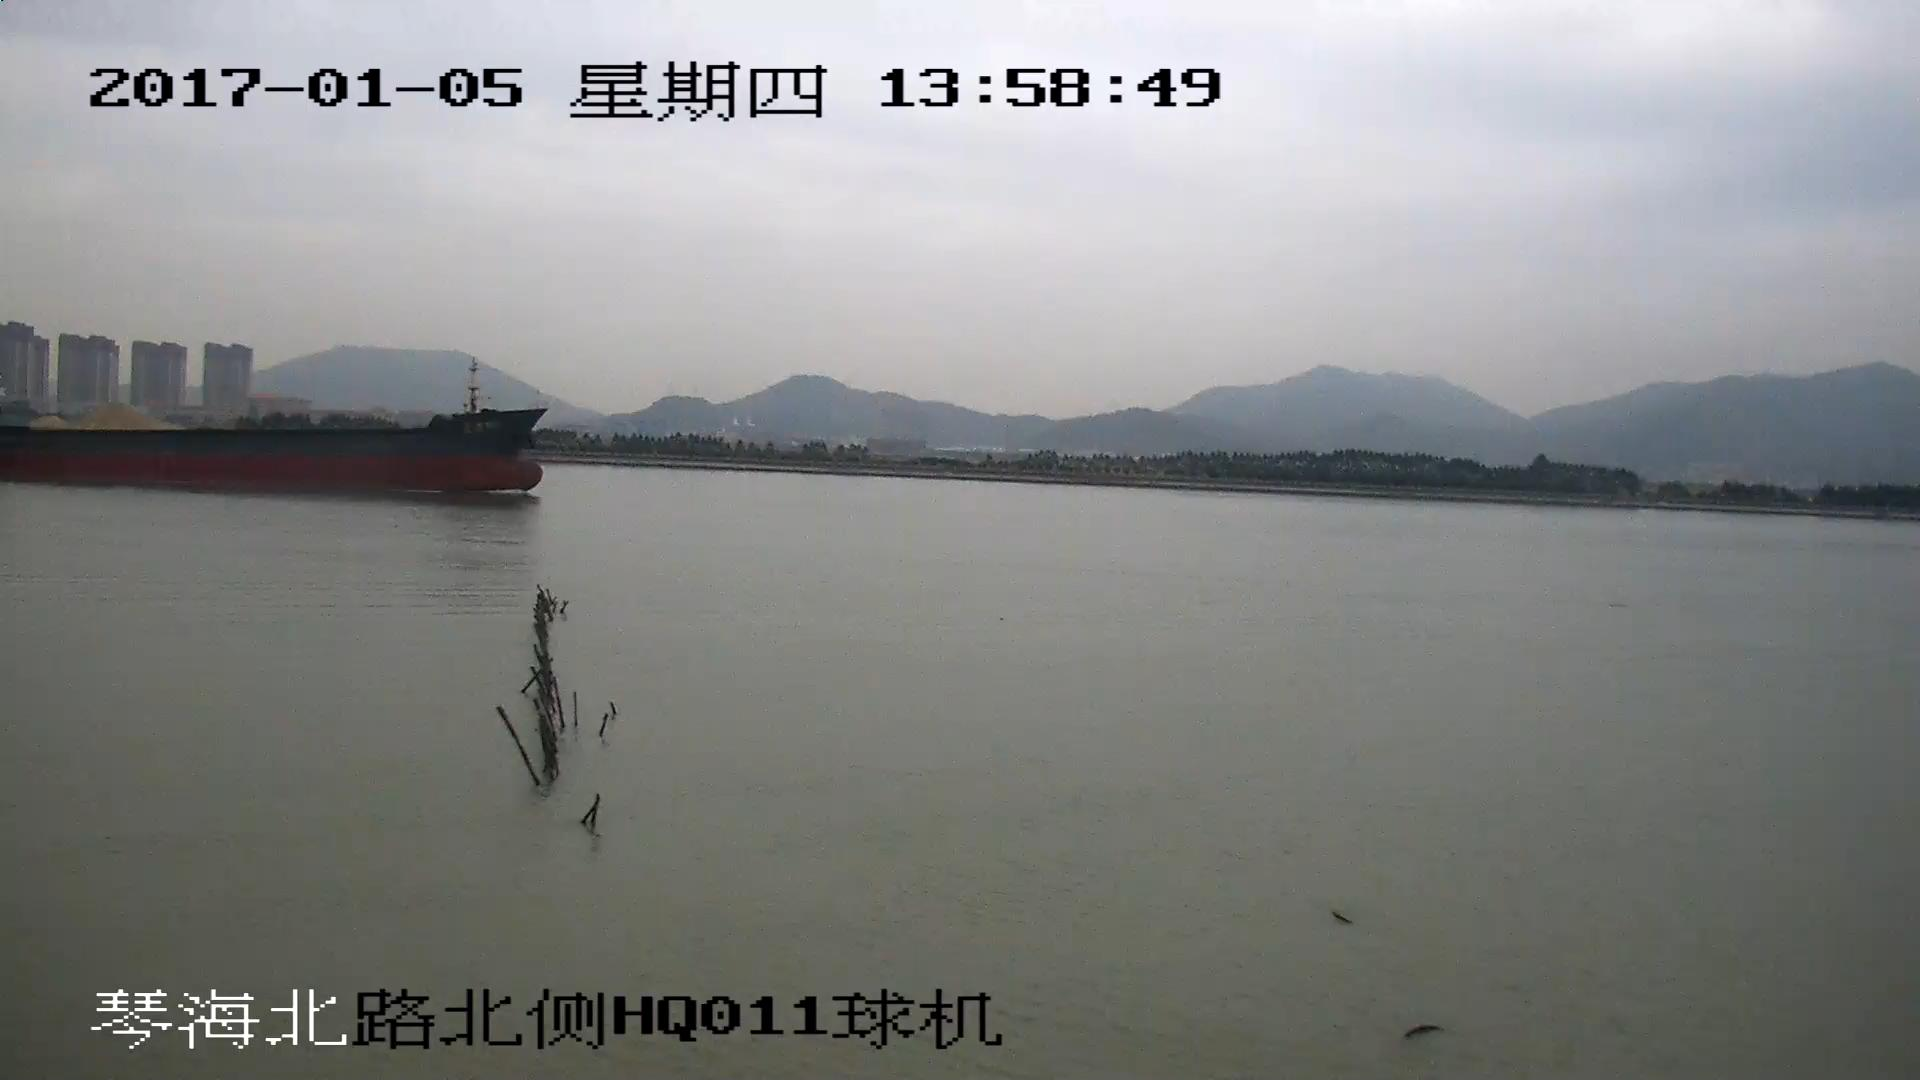general cargo ship: (1, 366, 553, 494)
